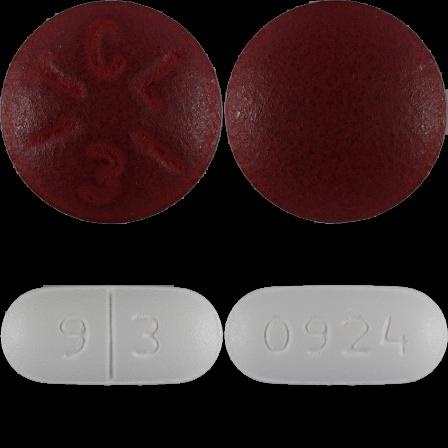63629-1342: (0, 0, 224, 224)
